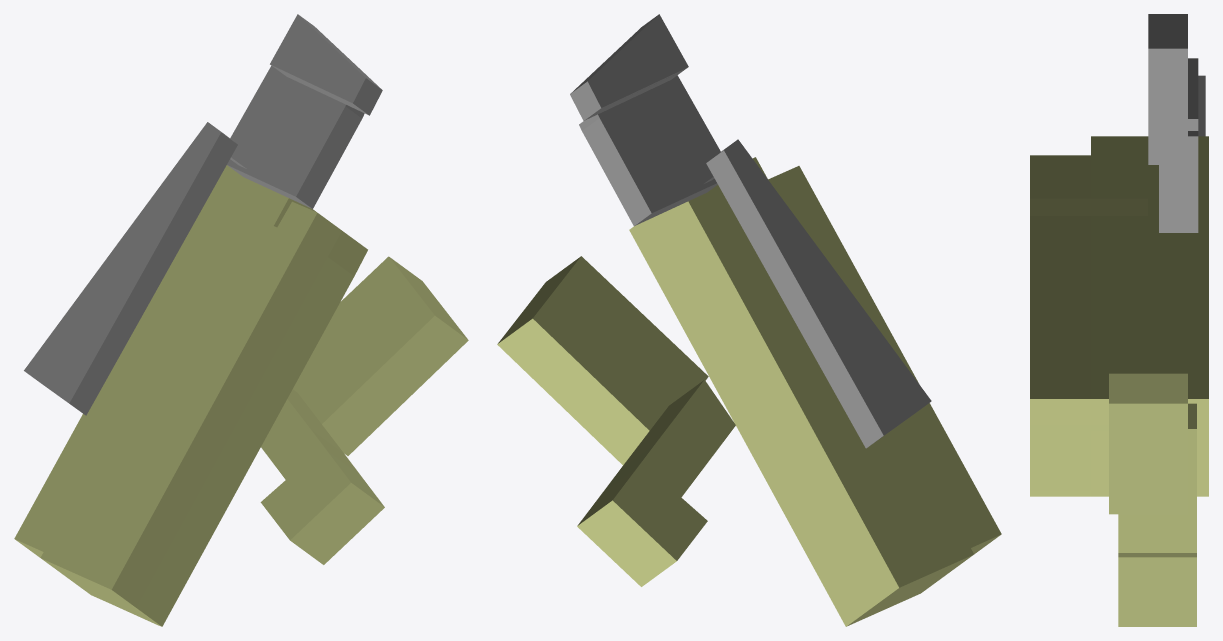
3 renders of one model, left to right at view 1: azimuth 30°, elevation 25°; view 2: azimuth 150°, elevation 25°; view 3: azimuth 270°, elevation 25°, orthographic. The views are drawn at different scales.
Visible parts, largest first — view 1: 0_1_2_0_0_2_1_2_0; view 2: 0_1_2_0_0_2_1_2_0; view 3: 0_1_2_0_0_2_1_2_0.
Boxes of the visible parts, left/top/right/bottom form: 0_1_2_0_0_2_1_2_0: left=14, top=14, right=468, bottom=626; 0_1_2_0_0_2_1_2_0: left=497, top=14, right=1001, bottom=626; 0_1_2_0_0_2_1_2_0: left=1030, top=14, right=1208, bottom=626.
Size of the model in its own units: 42.17 by 51.73 by 13.64.
